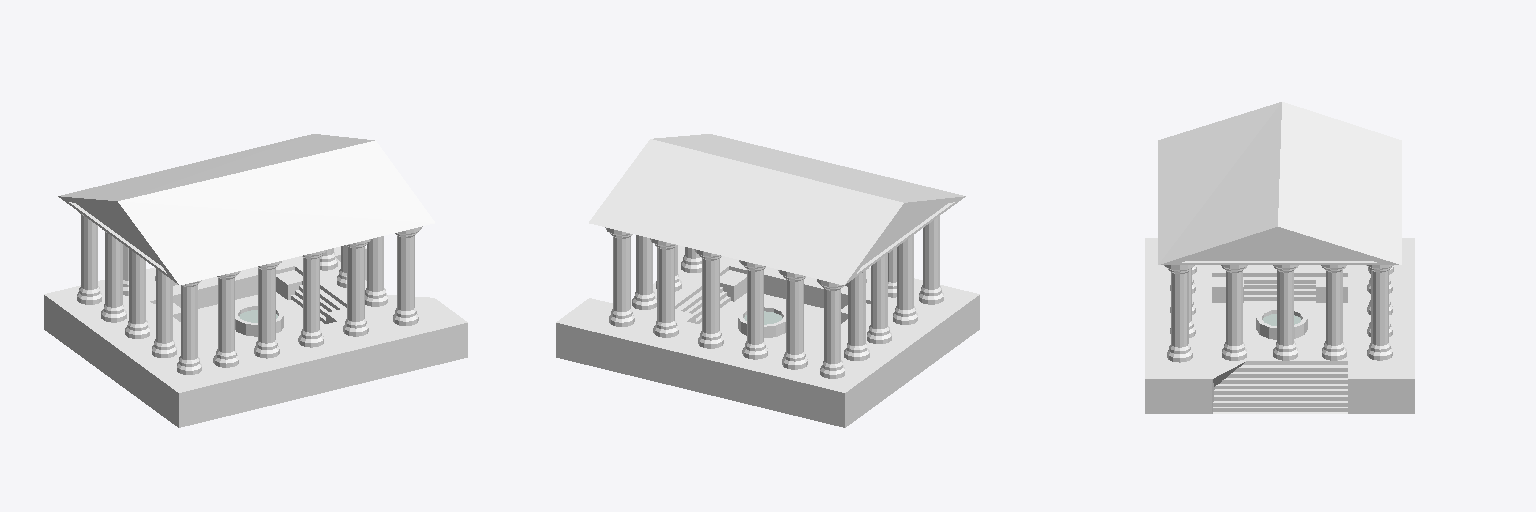
3 renders of one model, left to right at view 1: azimuth 30°, elevation 25°; view 2: azimuth 150°, elevation 25°; view 3: azimuth 270°, elevation 25°, orthographic.
Parts seen in each view (by area): view 1: group[number redacted], group[number redacted], group[number redacted], group[number redacted], group[number redacted], group[number redacted], group[number redacted], group[number redacted], group[number redacted], group[number redacted], group[number redacted], group[number redacted] (+3 smaller); view 2: group[number redacted], group[number redacted], group[number redacted], group[number redacted], group[number redacted], group[number redacted], group[number redacted], group[number redacted], group[number redacted], group[number redacted], group[number redacted], group[number redacted] (+3 smaller); view 3: group[number redacted], group[number redacted], group[number redacted], group[number redacted], group[number redacted], group[number redacted], group[number redacted], group[number redacted], group[number redacted], group[number redacted], group[number redacted], group[number redacted] (+4 smaller).
Part boxes in pixels (x1,y1,x2,y2): group[number redacted]: (58, 134, 434, 284); group[number redacted]: (44, 246, 467, 427); group[number redacted]: (393, 226, 422, 325); group[number redacted]: (254, 261, 281, 358); group[number redacted]: (343, 239, 370, 336); group[number redacted]: (298, 250, 326, 347); group[number redacted]: (213, 271, 240, 367); group[number redacted]: (177, 280, 201, 374); group[number redacted]: (101, 229, 126, 322); group[number redacted]: (77, 212, 101, 304); group[number redacted]: (125, 249, 149, 338); group[number redacted]: (152, 269, 176, 357); group[number redacted]: (589, 134, 965, 284); group[number redacted]: (556, 245, 979, 427); group[number redacted]: (778, 270, 807, 369); group[number redacted]: (694, 249, 723, 348); group[number redacted]: (605, 227, 634, 326); group[number redacted]: (650, 238, 678, 337); group[number redacted]: (817, 279, 844, 378); group[number redacted]: (739, 260, 767, 359); group[number redacted]: (844, 268, 869, 360); group[number redacted]: (867, 254, 891, 343); group[number redacted]: (893, 235, 917, 324); group[number redacted]: (919, 216, 943, 304); group[number redacted]: (1158, 102, 1401, 264); group[number redacted]: (1145, 238, 1414, 413); group[number redacted]: (1164, 265, 1194, 362); group[number redacted]: (1366, 265, 1393, 360); group[number redacted]: (1221, 265, 1247, 360); group[number redacted]: (1321, 265, 1346, 360); group[number redacted]: (1273, 265, 1298, 360); group[number redacted]: (1213, 401, 1347, 406); group[number redacted]: (1214, 395, 1347, 400); group[number redacted]: (1214, 389, 1347, 394); group[number redacted]: (1234, 365, 1347, 371); group[number redacted]: (1220, 378, 1347, 383).
Size of the model in its own units: 0.78 by 0.45 by 0.63.